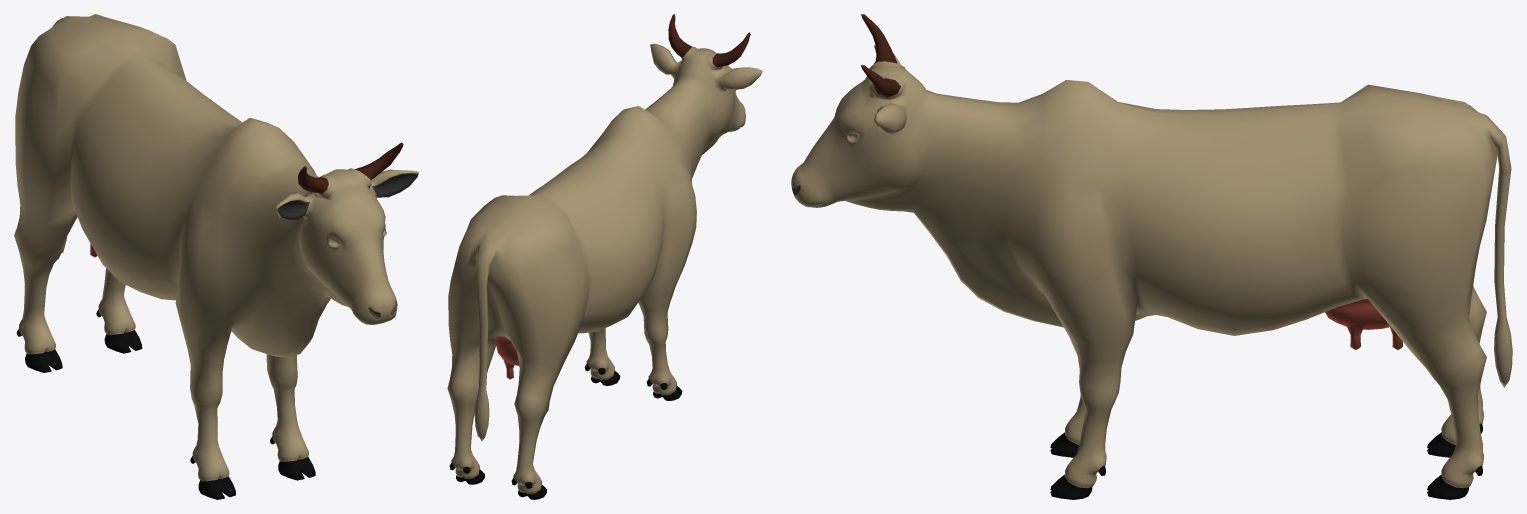
Rendered from zebu_zebu.obj.
3 renders of one model, left to right at view 1: azimuth 30°, elevation 25°; view 2: azimuth 150°, elevation 25°; view 3: azimuth 270°, elevation 25°, orthographic. The views are drawn at different scales.
Parts seen in each view (by area): view 1: zebu; view 2: zebu; view 3: zebu.
Boxes of the visible parts, x1,y1,x2,y2 form: zebu: (14,14,418,499); zebu: (447,14,762,499); zebu: (791,14,1512,499).
Bounding box in the file's own units: 0.7022 × 1.62 × 2.45.
